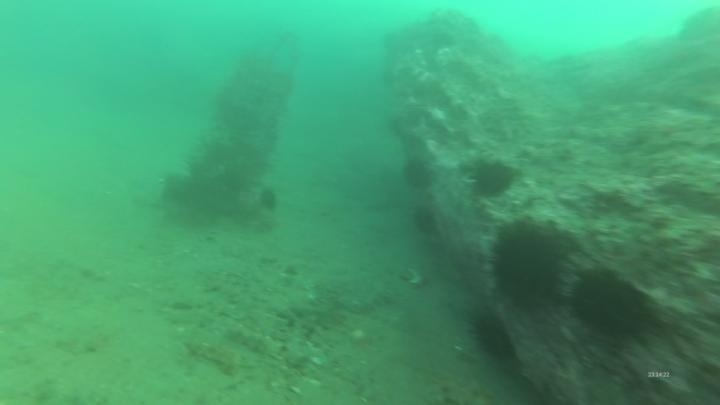echinus: (486, 221, 571, 313), (567, 267, 656, 344), (469, 310, 516, 363), (468, 157, 517, 200), (400, 155, 436, 192), (409, 203, 441, 238), (256, 185, 281, 215)
holothurian: (182, 338, 247, 376), (221, 324, 287, 361)
